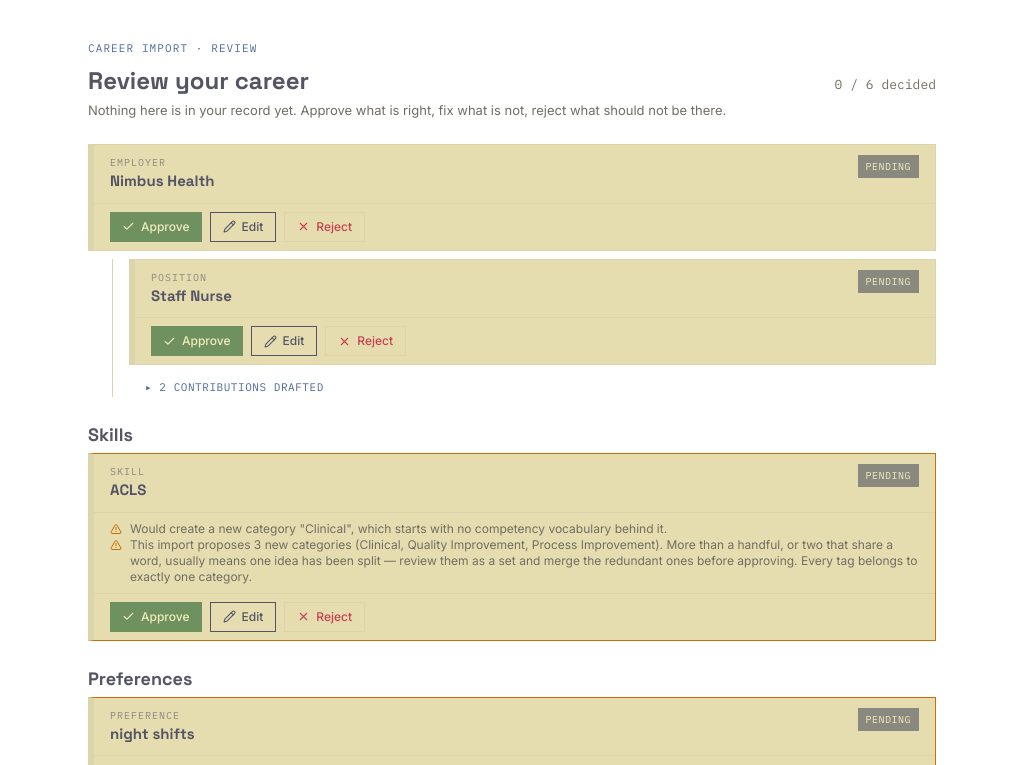
Test case: EntityDraftReview › collapses contributions to a count rather than nesting a third level
Check: the text "Ran the floor" is not shown
Click the button "▸ 2 contributions drafted": [234, 387] box top-left (145, 379), bottom-right (324, 396)
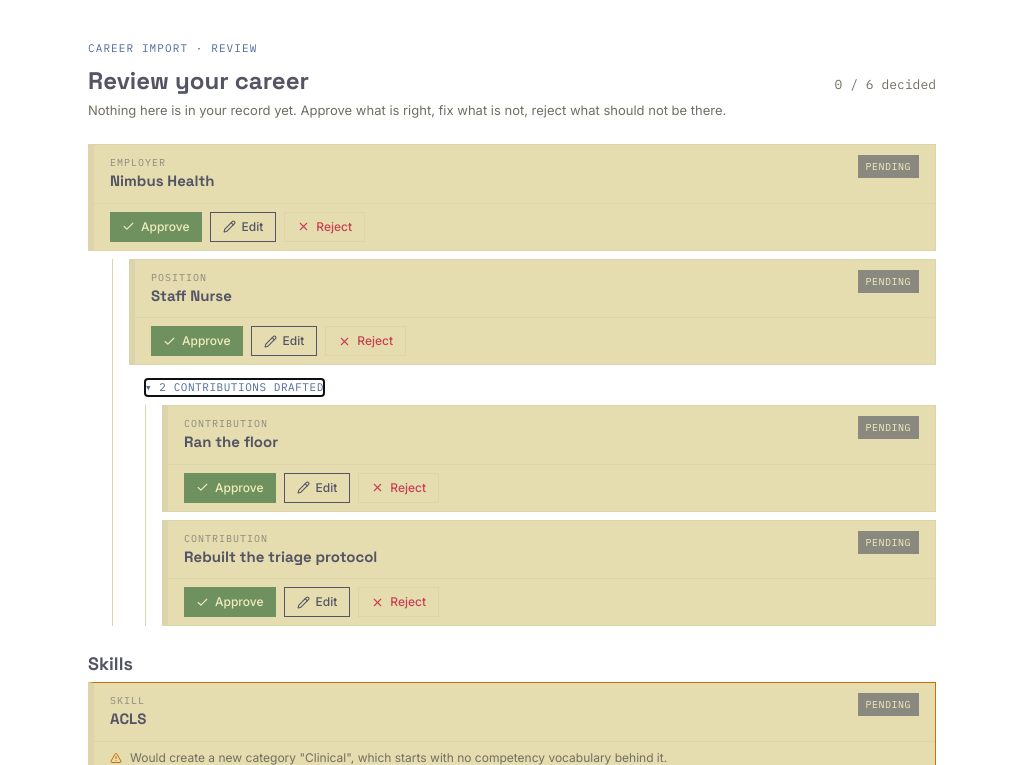
Check: the text "Ran the floor" is shown, box top-left (184, 431), bottom-right (278, 454)
Check: the text "Rebuilt the triage protocol" is shown, box top-left (184, 546), bottom-right (377, 568)
